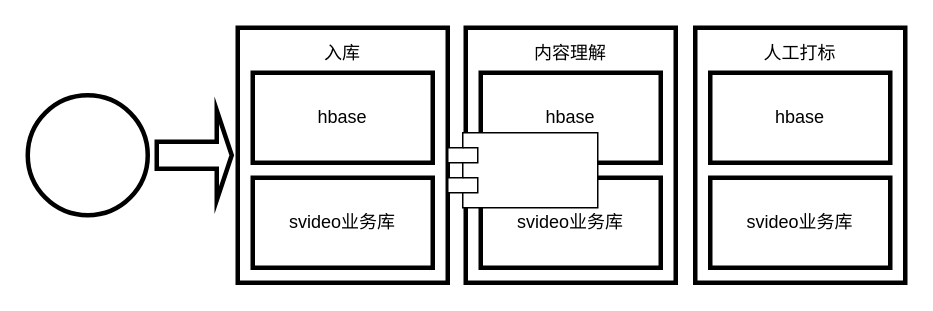
Some shapes in this 933 by 311 pixel diagram are drawn without their labels. The shapes that lost their labels are listed below. From the top down, each one's box as (x1, y1, x2, y2) in pixels, then its label:
(25, 92, 149, 217): 短视频
(446, 131, 598, 208): Module
